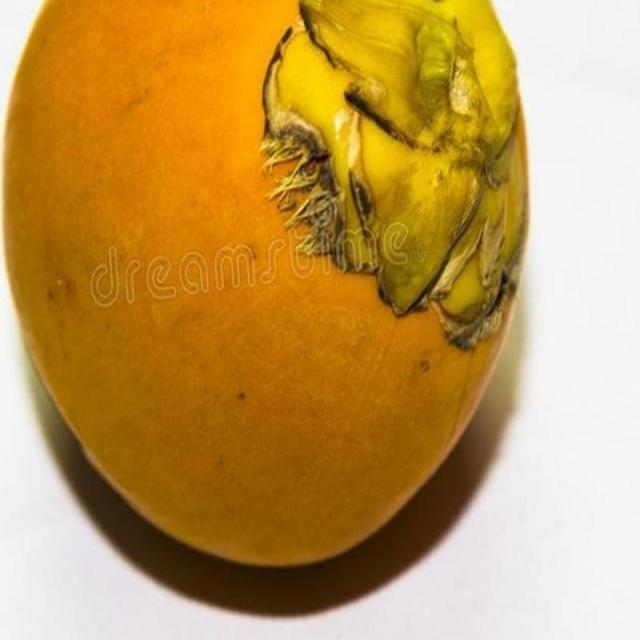good: (4, 0, 530, 571)
